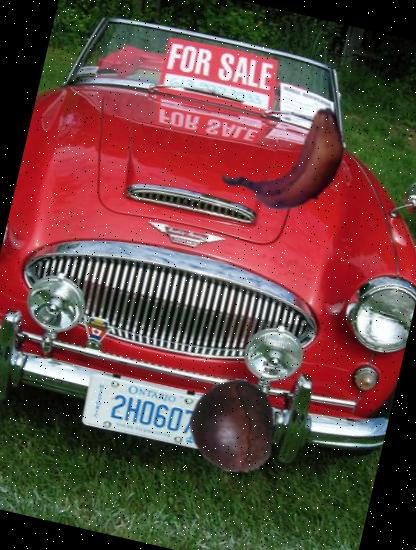Banana: (214, 88, 375, 249)
Chestnut: (176, 368, 288, 480)
